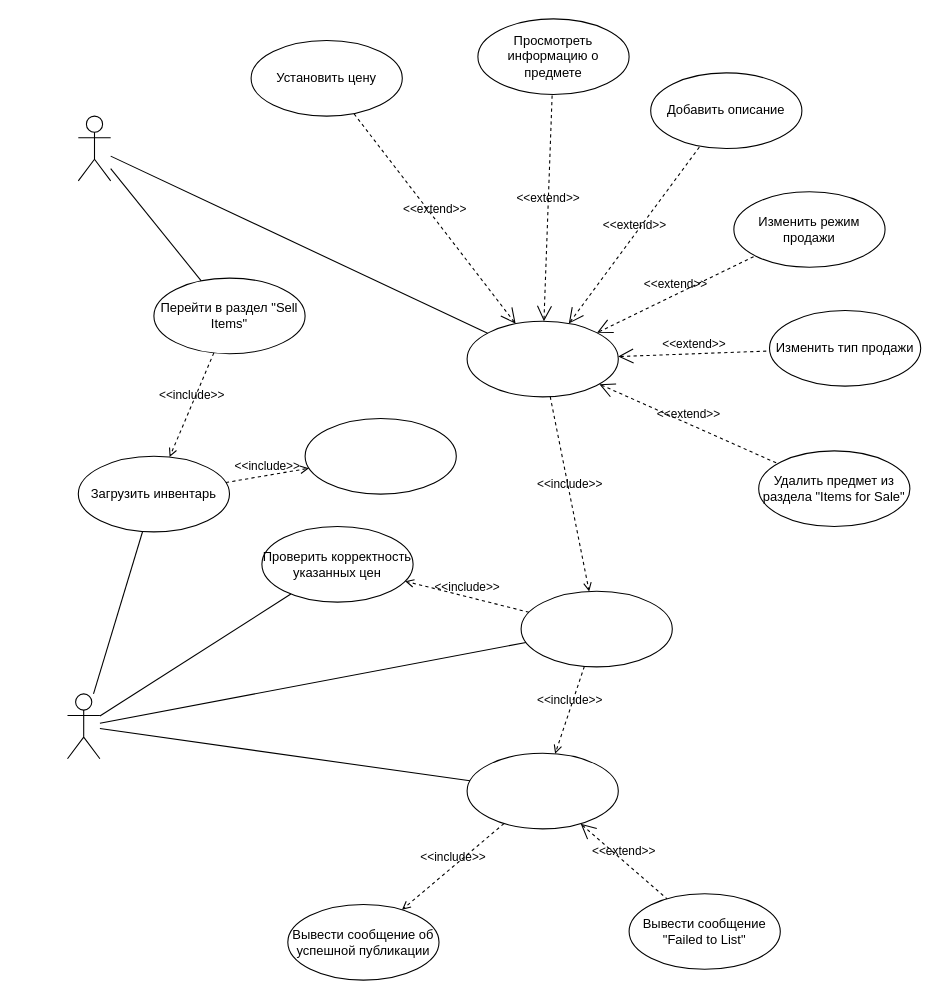
Image size: 940x999. Some labels were removed from this diagram. The shapes that lost their labels are listed below. From the top down, each one's centre as x and y in pixels, then its label:
At point 94,148: "Авторизованный пользователь".
At point 542,358: "Выбрать предметы для продажи".
At point 380,455: "Рассчитать рекомендуемую цену предметов".
At point 596,628: "Подтвердить публикации".
At point 83,726: "Подсистема торговли".
At point 542,790: "Разместить предметы на продажу".
